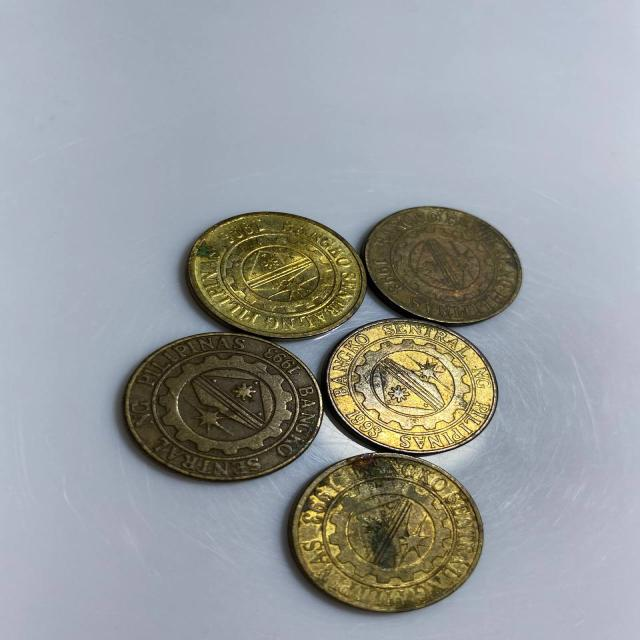25Cent_Old_Back: (287, 455, 481, 613), (113, 338, 328, 479), (331, 324, 500, 456), (189, 210, 364, 332), (375, 201, 521, 324)
